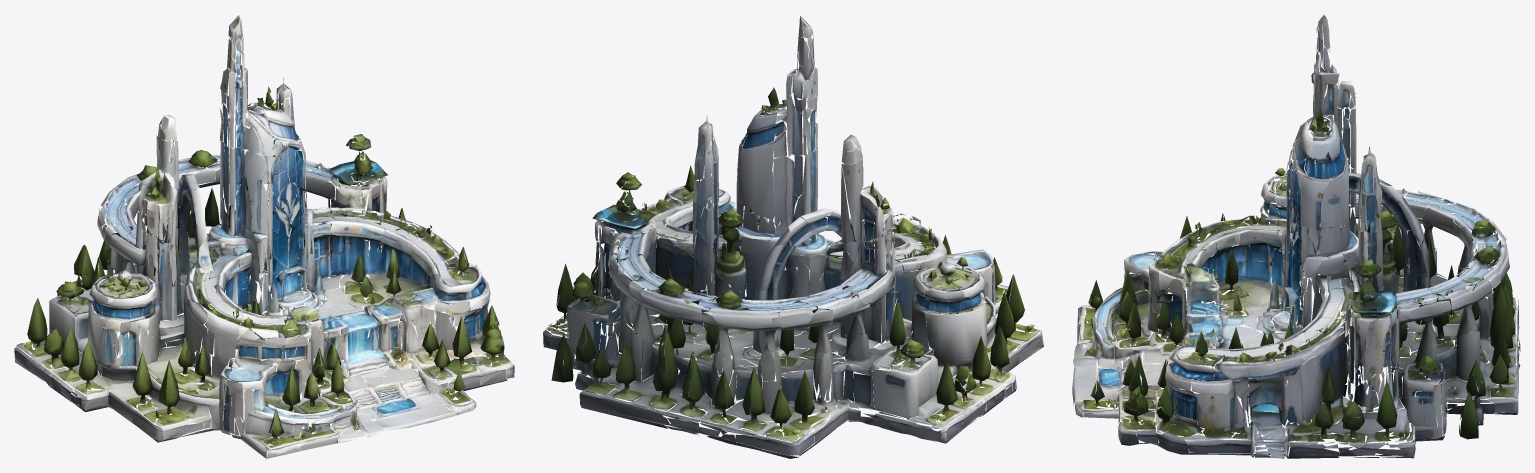
Rendered from HL_Base_Elyza_CrystalCourt.glb.
The picture shows the model from 3 angles, left to right: view 1: azimuth 30°, elevation 25°; view 2: azimuth 150°, elevation 25°; view 3: azimuth 270°, elevation 25°; orthographic projection. The views are drawn at different scales.
Parts seen in each view (by area): view 1: tripo_node_3a599046-ca51-45c8-9503-818dfe95f715; view 2: tripo_node_3a599046-ca51-45c8-9503-818dfe95f715; view 3: tripo_node_3a599046-ca51-45c8-9503-818dfe95f715.
Boxes of the visible parts, x1=… form: tripo_node_3a599046-ca51-45c8-9503-818dfe95f715: x1=14, y1=15, x2=514, y2=458; tripo_node_3a599046-ca51-45c8-9503-818dfe95f715: x1=543, y1=15, x2=1043, y2=458; tripo_node_3a599046-ca51-45c8-9503-818dfe95f715: x1=1072, y1=14, x2=1520, y2=458.
Size of the model in its own units: 0.9799 by 0.803 by 0.9469.
Materials: 1 (1 with a texture image).
